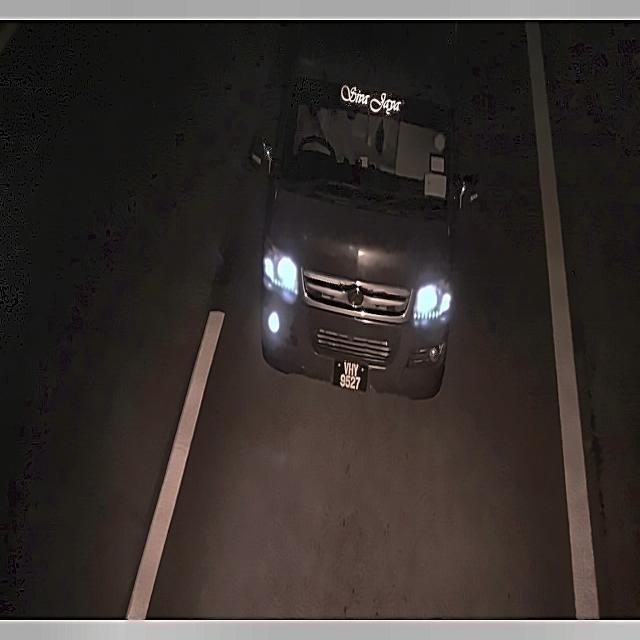car: (331, 353, 370, 395)
